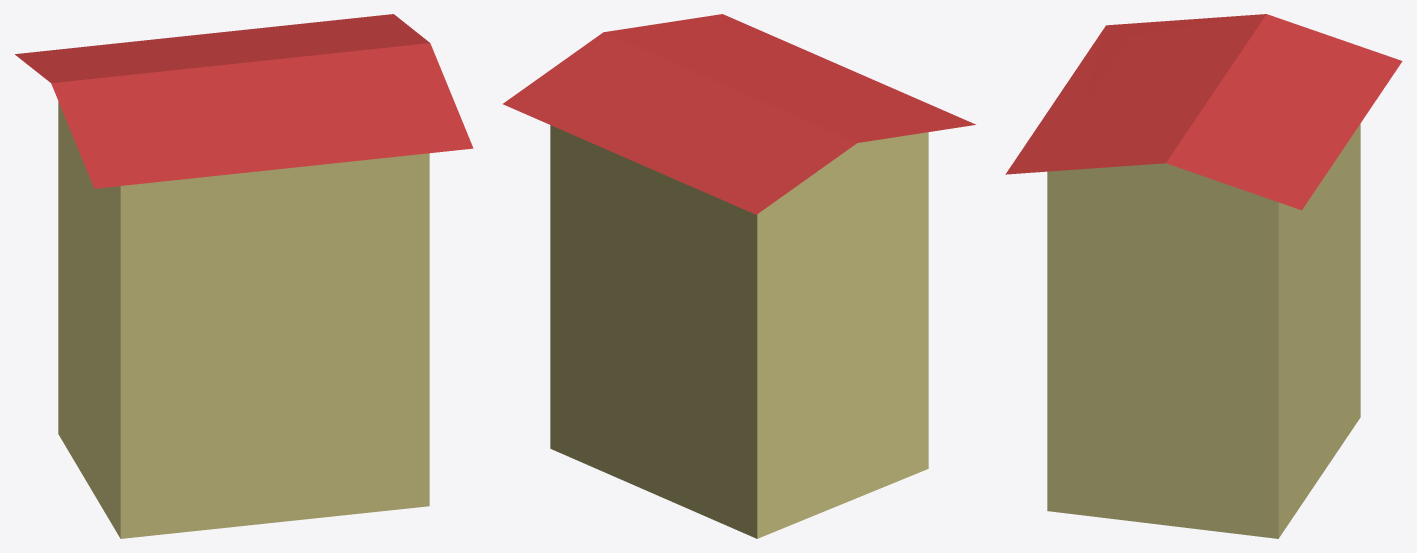
3 views of the same model, side by side, from view 1: azimuth 30°, elevation 25°; view 2: azimuth 150°, elevation 25°; view 3: azimuth 270°, elevation 25° (orthographic). The views are drawn at different scales.
Size of the model in its own units: 6.44 by 5.84 by 6.12.
